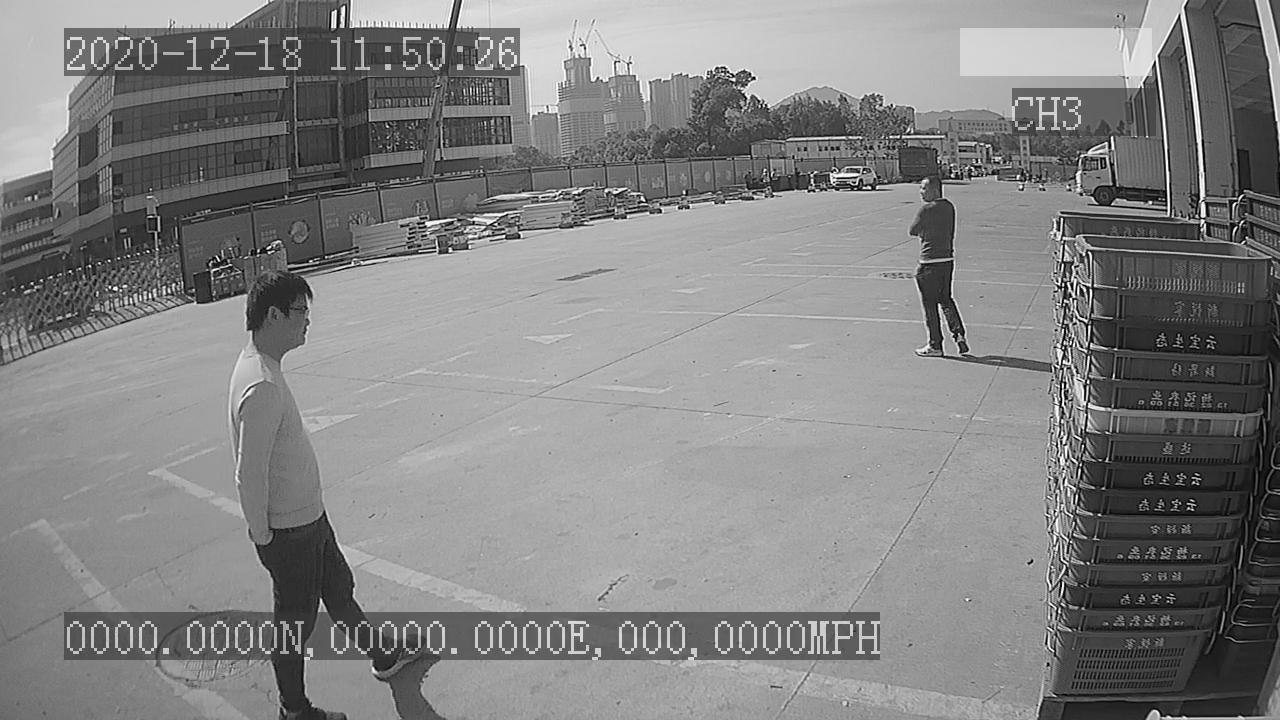person: (904, 174, 972, 361)
